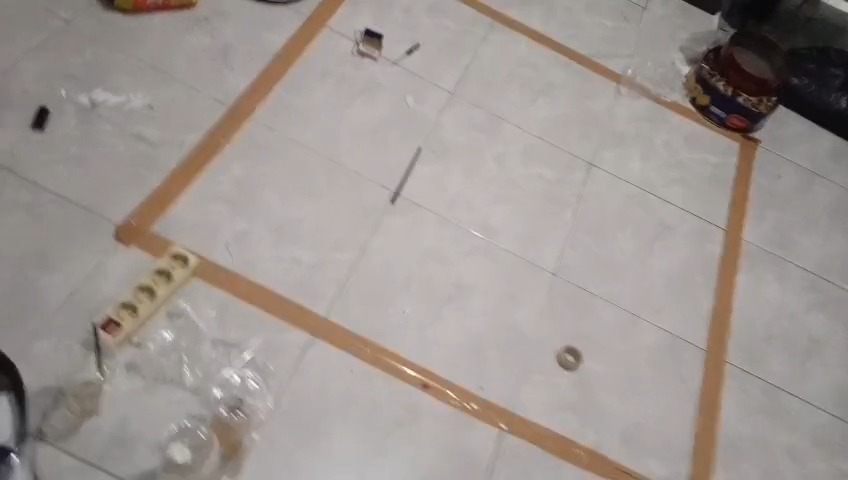floor marking: (196, 257, 646, 479), (116, 0, 344, 255), (630, 83, 759, 479), (461, 0, 626, 82)
